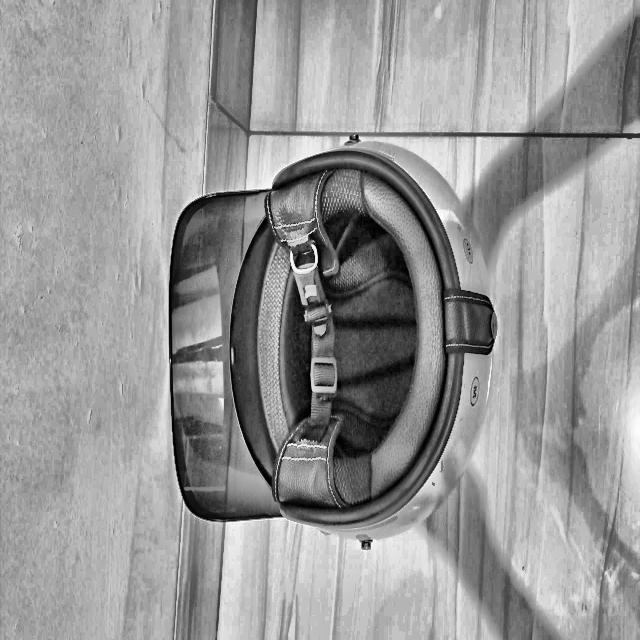Helmet: (152, 109, 515, 579)
